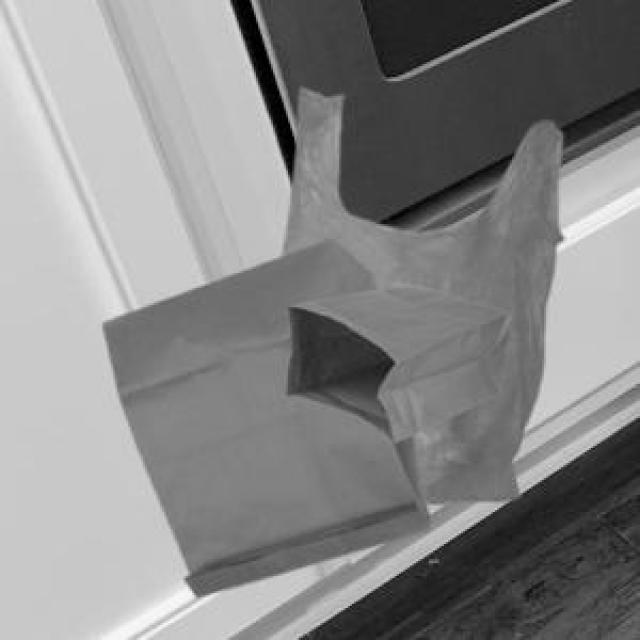paper: (98, 235, 427, 593), (282, 280, 506, 437)
